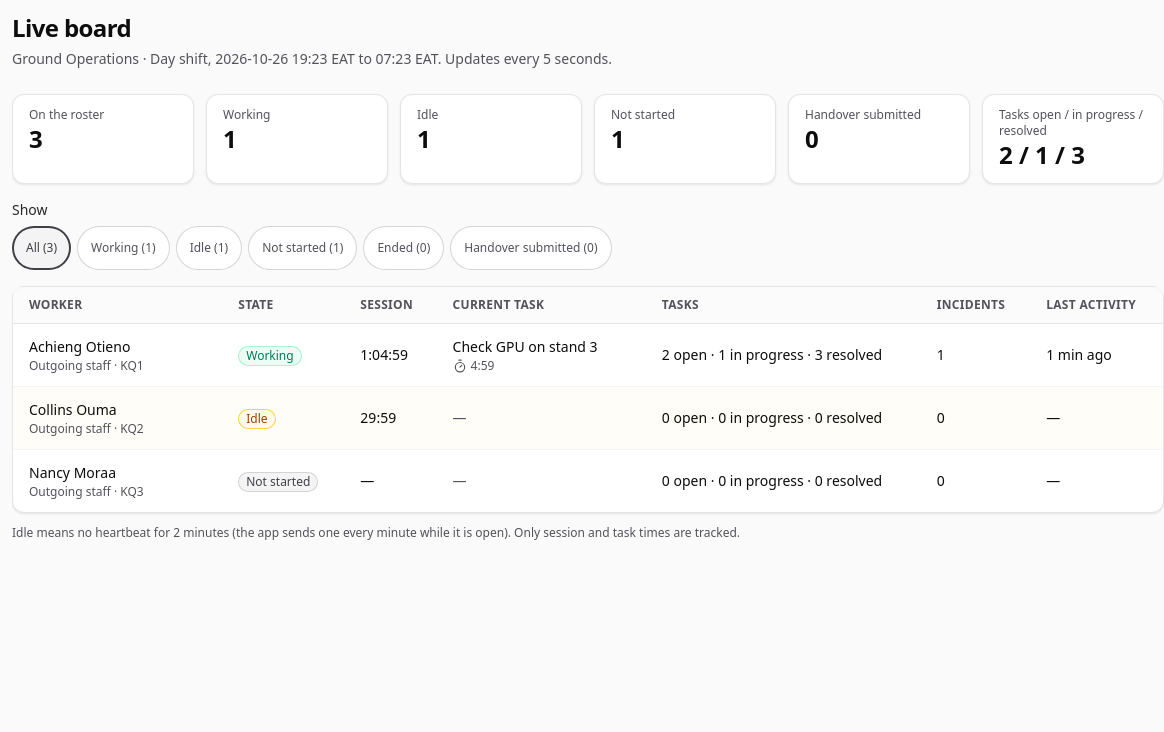
Test: live board › the status filter narrows the table
Check: the text "Achieng Otieno" is shown, box left=29, top=337, right=130, bottom=356
Click the radio button labelled "Idle (1)". click: (209, 248)
box: left=176, top=226, right=242, bottom=270
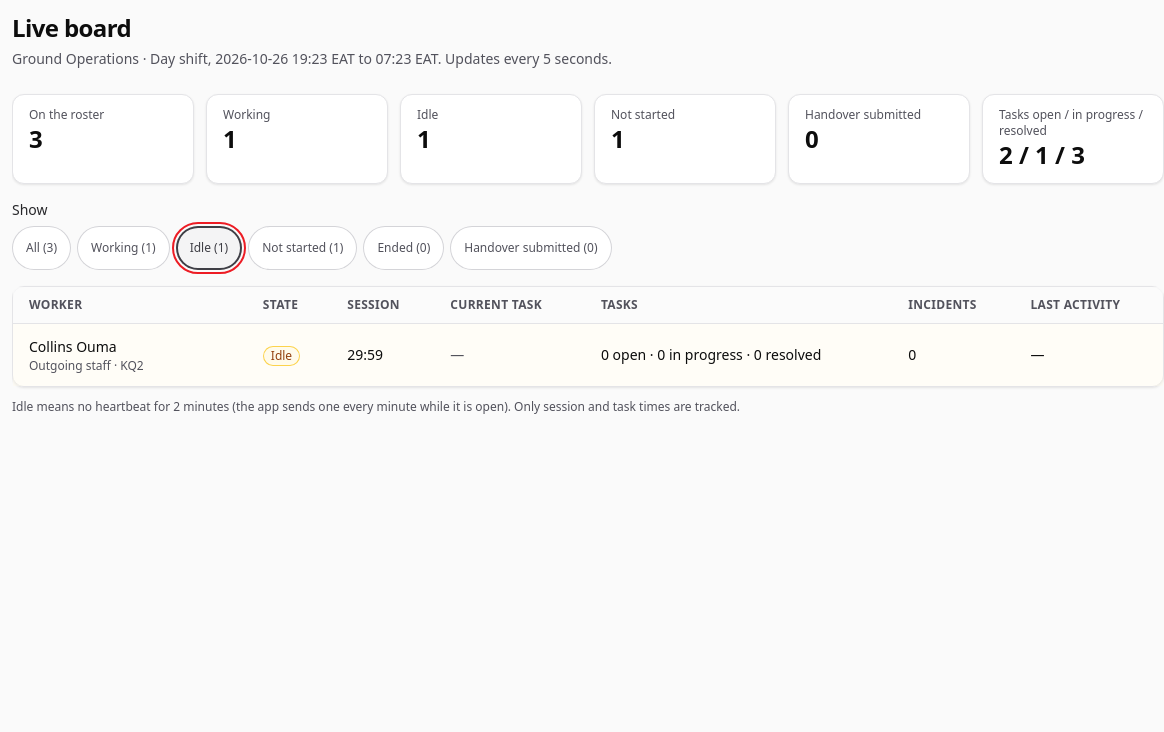
Check: the text "Collins Ouma" is shown, box left=29, top=337, right=117, bottom=356
Check: the text "Achieng Otieno" is gone
Click the radio button labelled "Ended (0)". click: (404, 248)
box: left=363, top=226, right=444, bottom=270
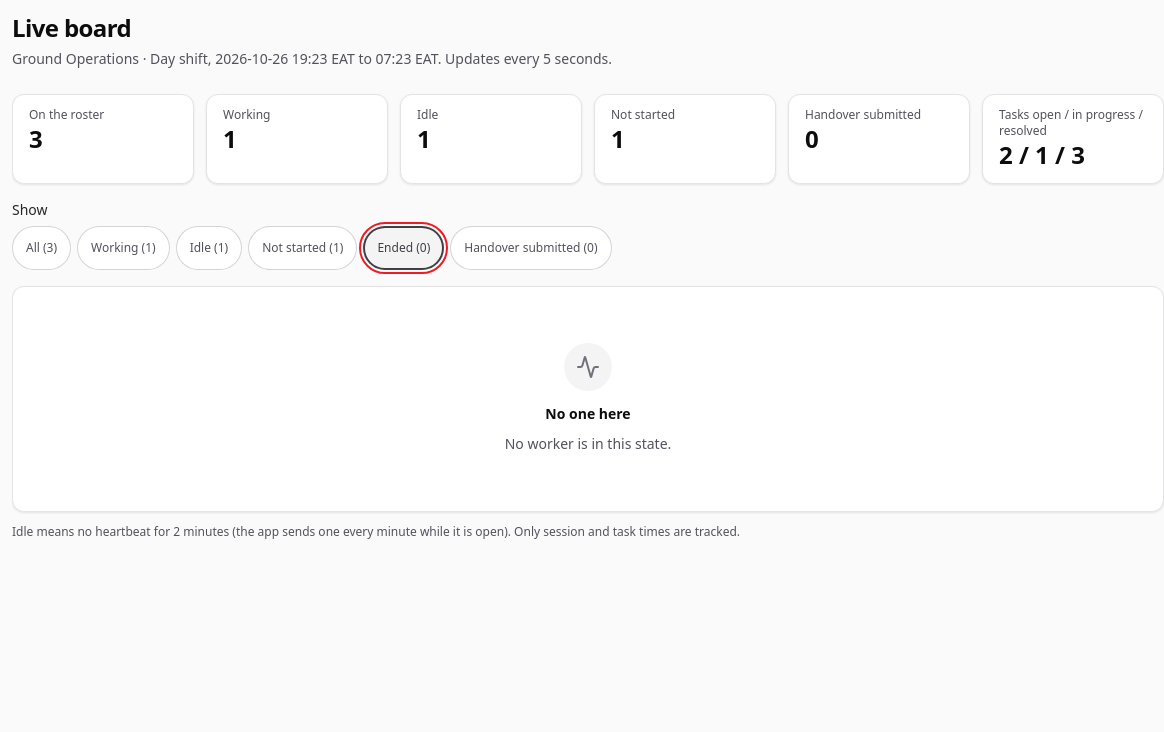
Check: the text "No worker is in this state." is shown, box left=505, top=433, right=671, bottom=455
